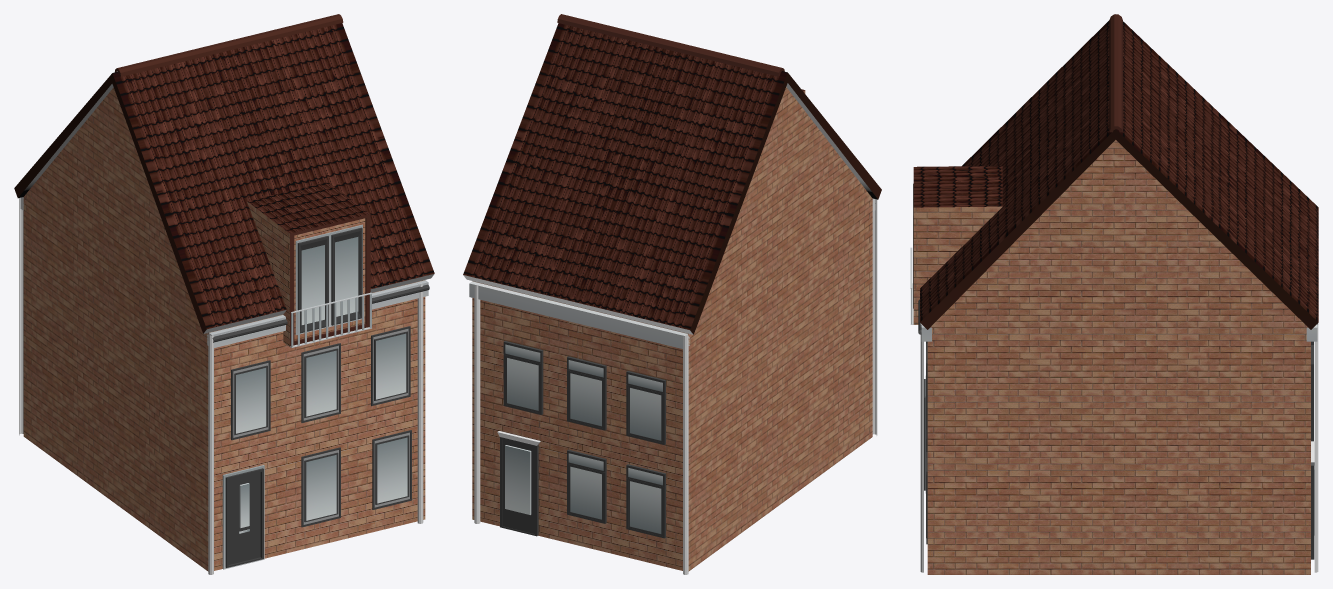
File: It_Tek_34.fbx
3 renders of one model, left to right at view 1: azimuth 30°, elevation 25°; view 2: azimuth 150°, elevation 25°; view 3: azimuth 270°, elevation 25°, orthographic. The views are drawn at different scales.
Visible parts, largest first — view 1: It_Tek_34; view 2: It_Tek_34; view 3: It_Tek_34.
Part boxes in pixels (bbox=[...]): It_Tek_34: bbox=[14, 14, 434, 574]; It_Tek_34: bbox=[463, 14, 881, 574]; It_Tek_34: bbox=[910, 14, 1318, 574].
Bounding box in the file's own units: 638 × 1167 × 956.
